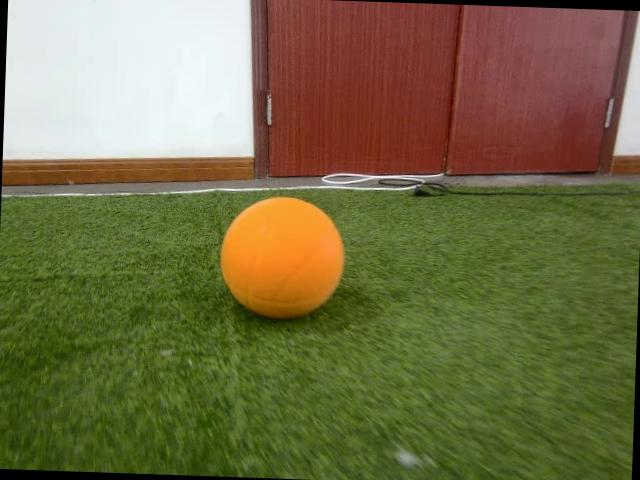orange_ball: (217, 193, 349, 321)
